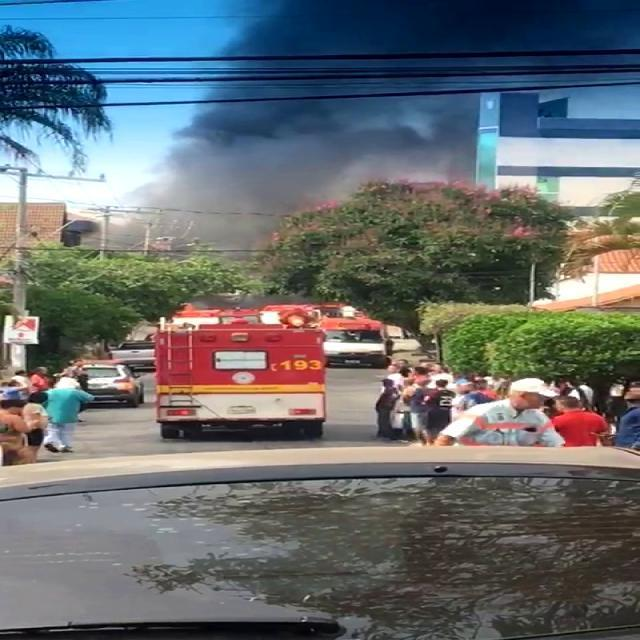Smoke: (142, 0, 570, 213)
